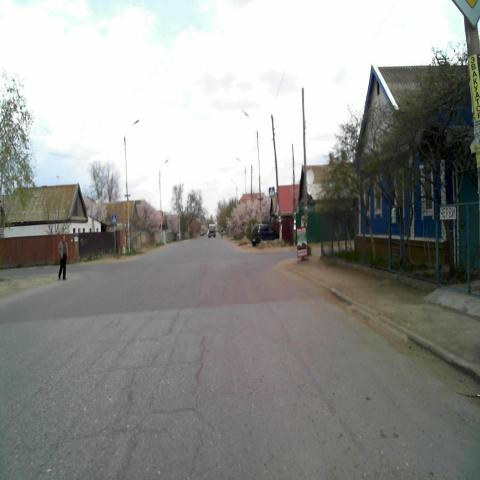5_19_1: (110, 213, 118, 225), (270, 186, 274, 198)
